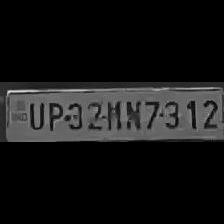1: (182, 97, 198, 130)
2: (85, 97, 105, 131), (198, 96, 218, 130)
3: (64, 97, 84, 130), (160, 97, 180, 130)
7: (140, 96, 160, 132)
M: (104, 96, 122, 132)
N: (122, 96, 140, 132)
P: (45, 98, 63, 132)
U: (24, 98, 43, 130)
